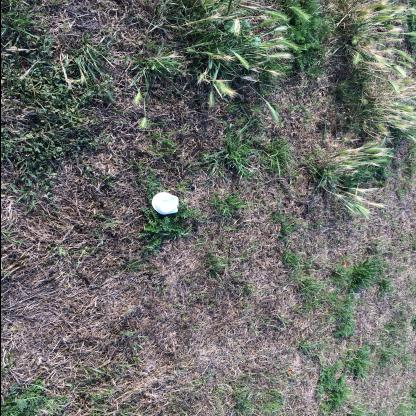plastik: (151, 192, 178, 214)
